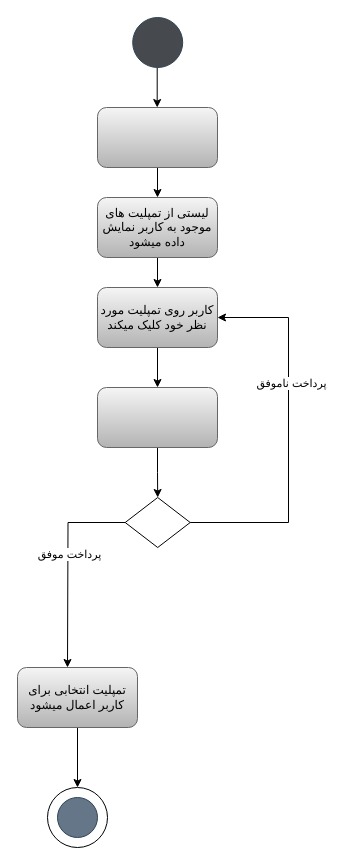
Some shapes in this 343 by 865 pixel diagram are drawn without their labels. Each missing label, with the box of its shape:
کاربر روی گزینه "خرید تمپلیت" کلیک میکند: (96, 106, 218, 168)
کاربر وارد پرداخت درون برنامه ای میشود: (96, 386, 218, 448)
